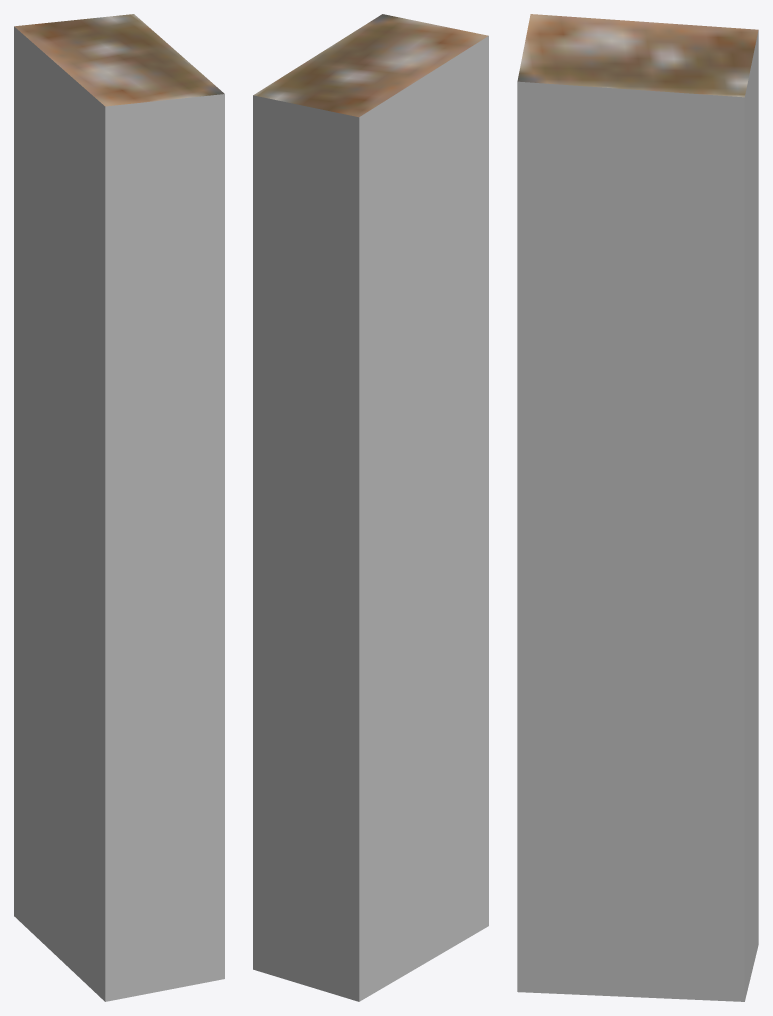
Rendered from DEBW_0010007THZF.gltf.
The picture shows the model from 3 angles, left to right: view 1: azimuth 30°, elevation 25°; view 2: azimuth 150°, elevation 25°; view 3: azimuth 270°, elevation 25°; orthographic projection. The views are drawn at different scales.
Visible parts, largest first — view 1: Z_UP; view 2: Z_UP; view 3: Z_UP.
Part boxes in pixels (x1=…): Z_UP: x1=14, y1=14, x2=224, y2=1001; Z_UP: x1=253, y1=14, x2=488, y2=1001; Z_UP: x1=517, y1=14, x2=758, y2=1001.
Size of the model in its own units: 2.64 by 16.99 by 4.03.
Materials: 2 (1 with a texture image).
